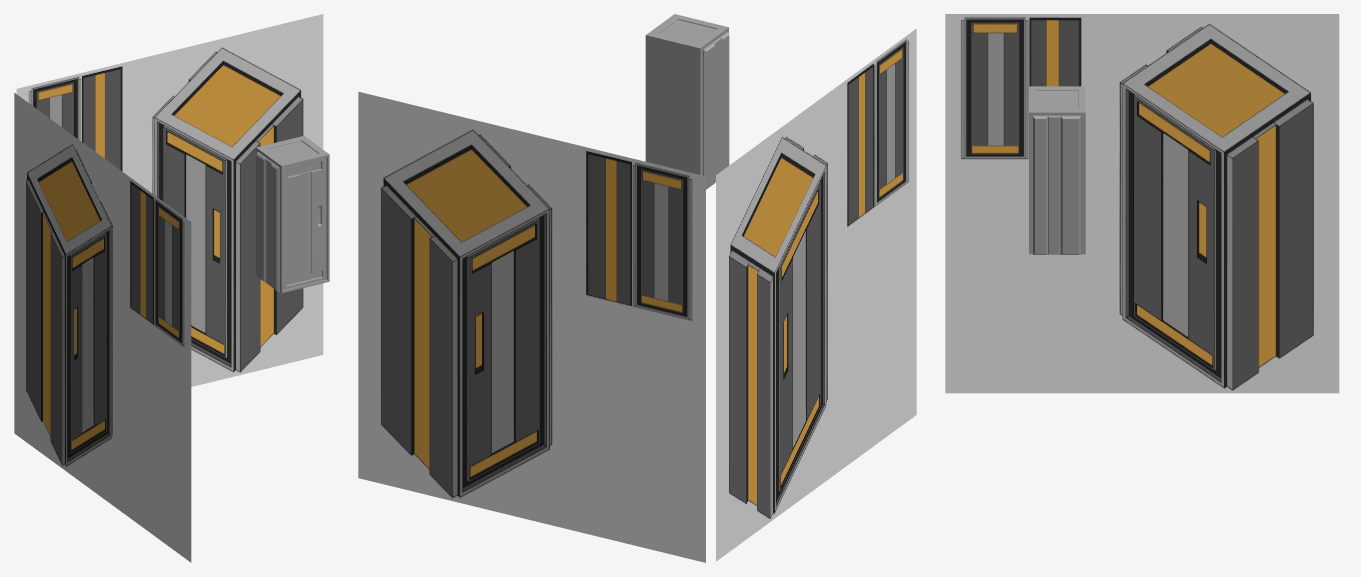
Rendered from Device-8.fbx.
3 views of the same model, side by side, from view 1: azimuth 30°, elevation 25°; view 2: azimuth 150°, elevation 25°; view 3: azimuth 270°, elevation 25° (orthographic). The views are drawn at different scales.
Parts seen in each view (by area): view 1: pPlane2, pPlane3, polySurface3, pCube6; view 2: pPlane3, pPlane2, polySurface3; view 3: pPlane2, polySurface3.
Boxes of the visible parts, <box> form: pPlane2: <box>14,93,191,562</box>; pPlane3: <box>16,14,323,386</box>; polySurface3: <box>256,136,329,293</box>; pCube6: <box>283,157,326,289</box>; pPlane3: <box>358,91,705,562</box>; pPlane2: <box>716,28,916,561</box>; polySurface3: <box>645,14,729,189</box>; pPlane2: <box>945,14,1339,393</box>; polySurface3: <box>1029,86,1085,254</box>.
Size of the model in its own units: 33.41 by 34.86 by 33.41.
2 materials, 1 textured.
